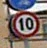limite 10: (9, 11, 40, 37)
